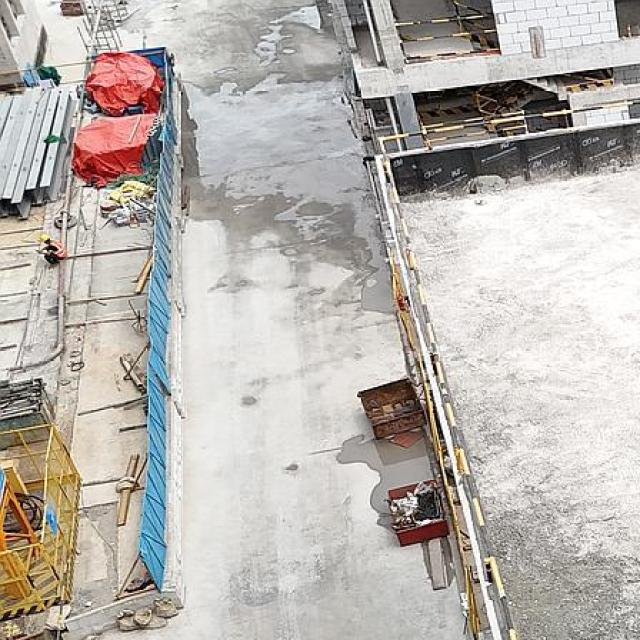Guardrail: (383, 163, 520, 640), (375, 99, 640, 162), (396, 14, 500, 63)
